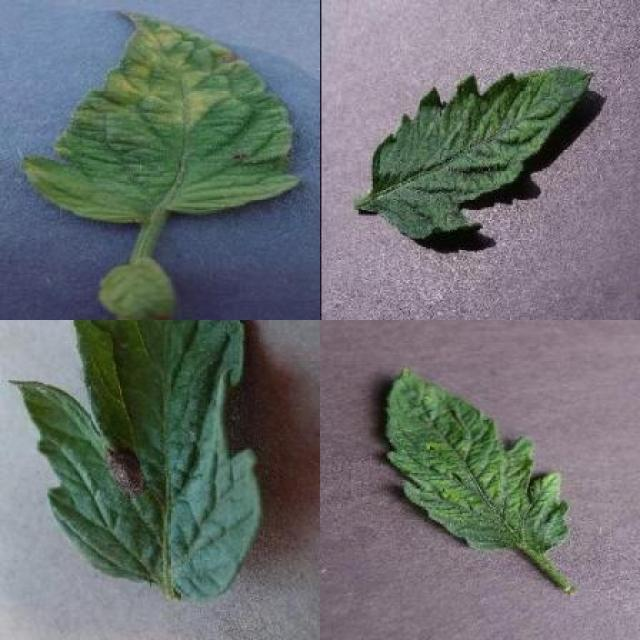Early Blight: (8, 319, 266, 595)
Leaf Mold: (17, 12, 303, 225)
Mosaic Virus: (368, 65, 595, 242), (384, 361, 570, 553)
